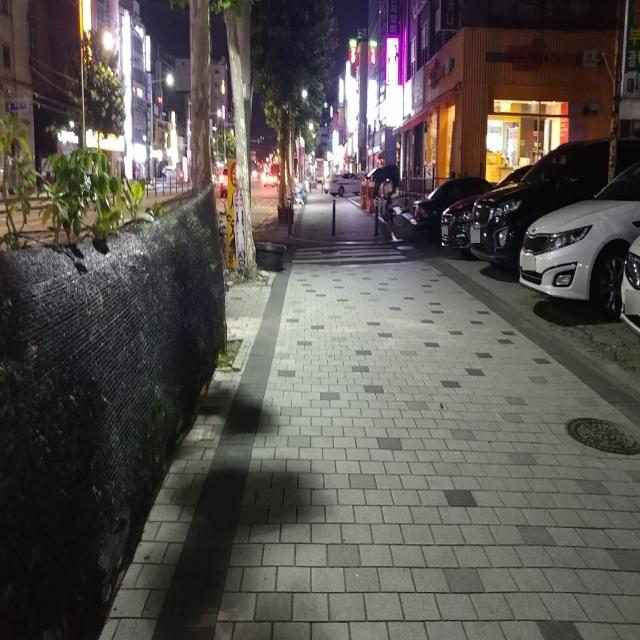횡단보도: (292, 244, 408, 264)
